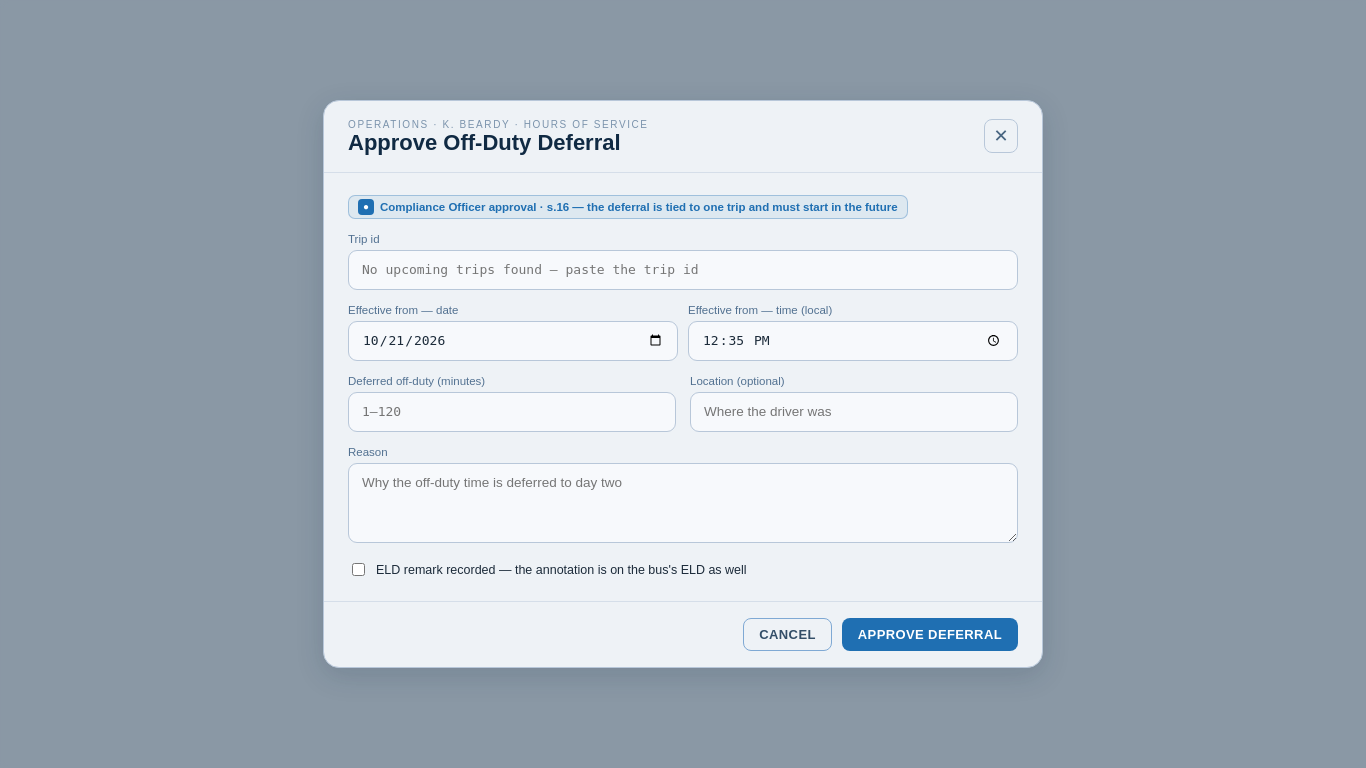
Test: HosExceptionModal — deferral (compliance) › falls back to a free trip-id field when no upcoming trips are found
Expected: the field with placeholder "No upcoming trips found — paste the trip id" is shown, [348, 250, 1018, 290]
Click the text "APPROVE DEFERRAL": [930, 635] box [842, 618, 1018, 651]
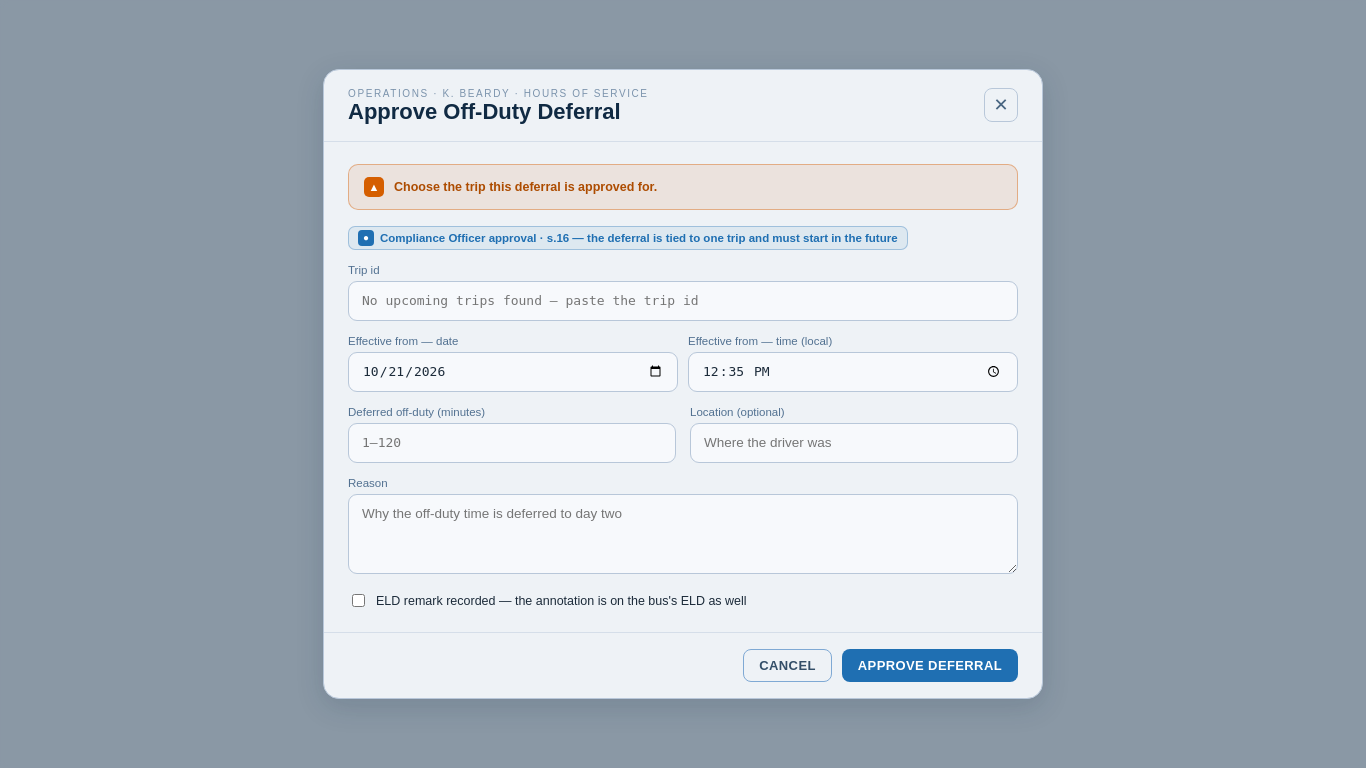
Now the text "Choose the trip this deferral is approved for." is shown, box [394, 180, 657, 194]
